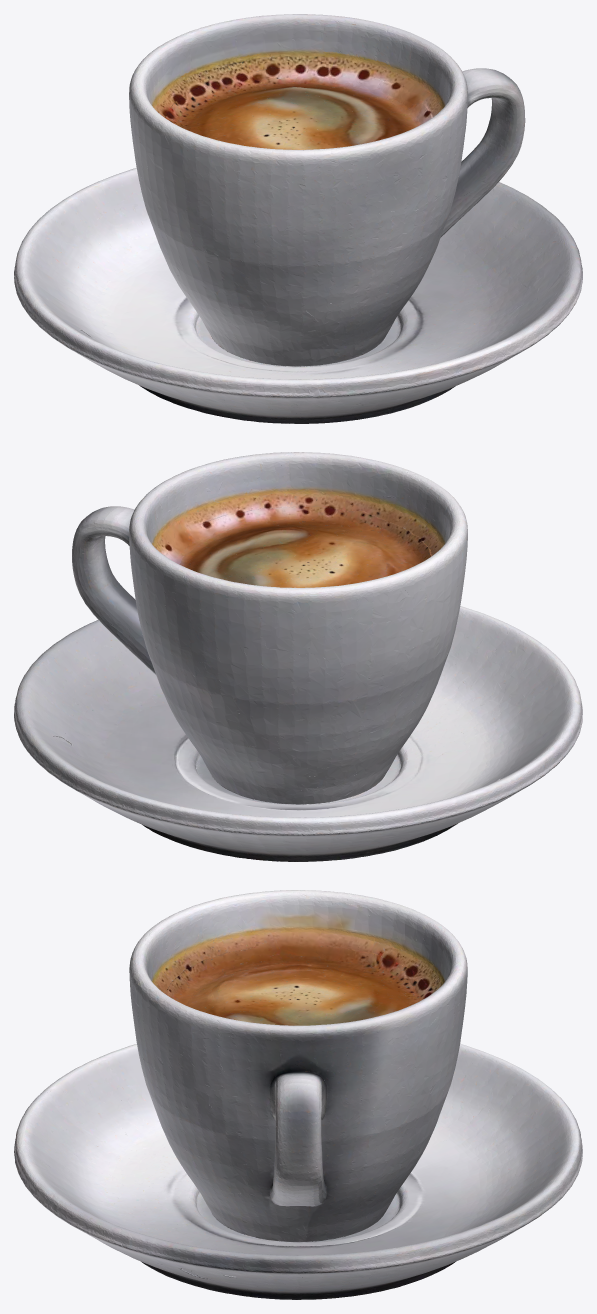
File: fincan.glb
3 renders of one model, top to bottom at view 1: azimuth 30°, elevation 25°; view 2: azimuth 150°, elevation 25°; view 3: azimuth 270°, elevation 25°, orthographic.
Visible parts, largest first — view 1: geometry_0; view 2: geometry_0; view 3: geometry_0.
Part boxes in pixels (left/top/right/bottom): geometry_0: left=14, top=14, right=582, bottom=423; geometry_0: left=14, top=452, right=582, bottom=861; geometry_0: left=14, top=890, right=582, bottom=1299.
Bounding box in the file's own units: 1 × 0.5125 × 0.9995.
Materials: 1 (1 with a texture image).
